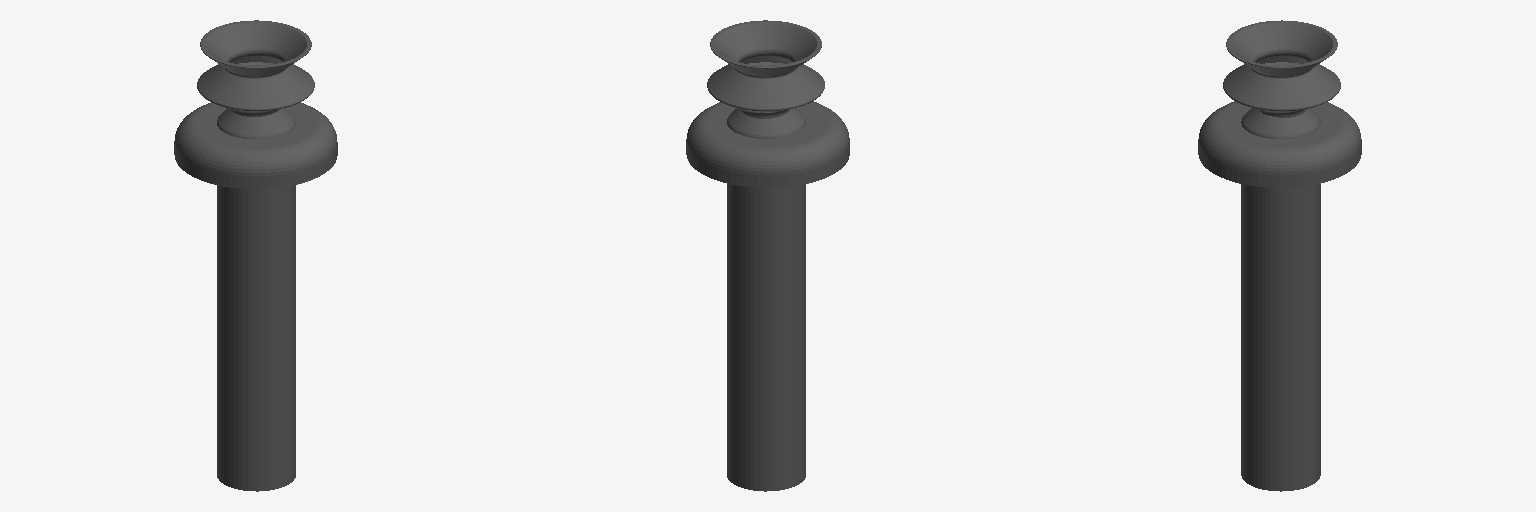
The robot description file, URDF, robot "iiwa14":
<?xml version="1.0" encoding="utf-8"?>
<!-- =================================================================================== -->
<!-- |    This document was autogenerated by xacro from iiwa14.urdf.xacro              | -->
<!-- |    EDITING THIS FILE BY HAND IS NOT RECOMMENDED                                 | -->
<!-- =================================================================================== -->
<robot name="iiwa14">
  <material name="Black">
    <color rgba="0.0 0.0 0.0 1.0"/>
  </material>
  <material name="Blue">
    <color rgba="0.0 0.0 0.8 1.0"/>
  </material>
  <material name="Green">
    <color rgba="0.0 0.8 0.0 1.0"/>
  </material>
  <material name="Grey">
    <color rgba="0.4 0.4 0.4 1.0"/>
  </material>
  <material name="Orange">
    <color rgba="1.0 0.423529411765 0.0392156862745 1.0"/>
  </material>
  <material name="Brown">
    <color rgba="0.870588235294 0.811764705882 0.764705882353 1.0"/>
  </material>
  <material name="Red">
    <color rgba="0.8 0.0 0.0 1.0"/>
  </material>
  <material name="White">
    <color rgba="1.0 1.0 1.0 1.0"/>
  </material>
  <!-- Fix to world just for testing -->
  <link name="world"/>
  <!--joint between {parent} and link_0-->
  <joint name="world_joint" type="fixed">
    <origin rpy="0 0 0" xyz="0 0 0.0"/>
    <parent link="world"/>
    <child link="link_0"/>
  </joint>
  <link name="link_0">
    <inertial>
      <origin rpy="0 0 0" xyz="-0.1 0 0.07"/>
      <mass value="5"/>
      <inertia ixx="0.05" ixy="0" ixz="0" iyy="0.06" iyz="0" izz="0.03"/>
    </inertial>
    <visual>
      <origin rpy="0 0 0" xyz="0 0 0"/>
      <geometry>
        <mesh filename="package://iiwa_description/meshes/iiwa14/visual/link_0.stl"/>
      </geometry>
      <material name="Grey"/>
    </visual>
    <collision>
      <origin rpy="0 0 0" xyz="0 0 0"/>
      <geometry>
        <mesh filename="package://iiwa_description/meshes/iiwa14/collision/link_0_s.stl"/>
      </geometry>
      <material name="Grey"/>
    </collision>
    <self_collision_checking>
      <origin rpy="0 0 0" xyz="0 0 0"/>
      <geometry>
        <capsule length="0.25" radius="0.15"/>
      </geometry>
    </self_collision_checking>
  </link>
  <!-- joint between link_0 and link_1 -->
  <joint name="joint_0" type="revolute">
    <parent link="link_0"/>
    <child link="link_1"/>
    <origin rpy="0 0 0" xyz="0 0 0.1575"/>
    <axis xyz="0 0 1"/>
    <limit effort="300" lower="-2.96705972839" upper="2.96705972839" velocity="10"/>
    <safety_controller k_position="100" k_velocity="2" soft_lower_limit="-2.93215314335" soft_upper_limit="2.93215314335"/>
    <dynamics damping="0.0" friction="0.0"/>
  </joint>
  <link name="link_1">
    <inertial>
      <origin rpy="0 0 0" xyz="0 -0.03 0.12"/>
      <mass value="4"/>
      <inertia ixx="0.1" ixy="0" ixz="0" iyy="0.09" iyz="0" izz="0.02"/>
    </inertial>
    <visual>
      <origin rpy="0 0 0" xyz="0 0 0"/>
      <geometry>
        <mesh filename="package://iiwa_description/meshes/iiwa14/visual/link_1.stl"/>
      </geometry>
      <material name="Orange"/>
    </visual>
    <collision>
      <origin rpy="0 0 0" xyz="0 0 0"/>
      <geometry>
        <mesh filename="package://iiwa_description/meshes/iiwa14/collision/link_1_s.stl"/>
      </geometry>
      <material name="Orange"/>
    </collision>
  </link>
  <!-- joint between link_1 and link_2 -->
  <joint name="joint_1" type="revolute">
    <parent link="link_1"/>
    <child link="link_2"/>
    <origin rpy="1.57079632679   0 3.14159265359" xyz="0 0 0.2025"/>
    <axis xyz="0 0 1"/>
    <limit effort="300" lower="-2.09439510239" upper="2.09439510239" velocity="10"/>
    <safety_controller k_position="100" k_velocity="2" soft_lower_limit="-2.05948851735" soft_upper_limit="2.05948851735"/>
    <dynamics damping="0.0" friction="0.0"/>
  </joint>
  <link name="link_2">
    <inertial>
      <origin rpy="0 0 0" xyz="0.0003 0.059 0.042"/>
      <mass value="4"/>
      <inertia ixx="0.05" ixy="0" ixz="0" iyy="0.018" iyz="0" izz="0.044"/>
    </inertial>
    <visual>
      <origin rpy="0 0 0" xyz="0 0 0"/>
      <geometry>
        <mesh filename="package://iiwa_description/meshes/iiwa14/visual/link_2.stl"/>
      </geometry>
      <material name="Orange"/>
    </visual>
    <collision>
      <origin rpy="0 0 0" xyz="0 0 0"/>
      <geometry>
        <mesh filename="package://iiwa_description/meshes/iiwa14/collision/link_2_s.stl"/>
      </geometry>
      <material name="Orange"/>
    </collision>
  </link>
  <!-- joint between link_2 and link_3 -->
  <joint name="joint_2" type="revolute">
    <parent link="link_2"/>
    <child link="link_3"/>
    <origin rpy="1.57079632679 0 3.14159265359" xyz="0 0.2045 0"/>
    <axis xyz="0 0 1"/>
    <limit effort="300" lower="-2.96705972839" upper="2.96705972839" velocity="10"/>
    <safety_controller k_position="100" k_velocity="2" soft_lower_limit="-2.93215314335" soft_upper_limit="2.93215314335"/>
    <dynamics damping="0.0" friction="0.0"/>
  </joint>
  <link name="link_3">
    <inertial>
      <origin rpy="0 0 0" xyz="0 0.03 0.13"/>
      <mass value="3"/>
      <inertia ixx="0.08" ixy="0" ixz="0" iyy="0.075" iyz="0" izz="0.01"/>
    </inertial>
    <visual>
      <origin rpy="0 0 0" xyz="0 0 0"/>
      <geometry>
        <mesh filename="package://iiwa_description/meshes/iiwa14/visual/link_3.stl"/>
      </geometry>
      <material name="Orange"/>
    </visual>
    <collision>
      <origin rpy="0 0 0" xyz="0 0 0"/>
      <geometry>
        <mesh filename="package://iiwa_description/meshes/iiwa14/collision/link_3_s.stl"/>
      </geometry>
      <material name="Orange"/>
    </collision>
  </link>
  <!-- joint between link_3 and link_4 -->
  <joint name="joint_3" type="revolute">
    <parent link="link_3"/>
    <child link="link_4"/>
    <origin rpy="1.57079632679 0 0" xyz="0 0 0.2155"/>
    <axis xyz="0 0 1"/>
    <limit effort="300" lower="-2.09439510239" upper="2.09439510239" velocity="10"/>
    <safety_controller k_position="100" k_velocity="2" soft_lower_limit="-2.05948851735" soft_upper_limit="2.05948851735"/>
    <dynamics damping="0.0" friction="0.0"/>
  </joint>
  <link name="link_4">
    <inertial>
      <origin rpy="0 0 0" xyz="0 0.067 0.034"/>
      <mass value="2.7"/>
      <inertia ixx="0.03" ixy="0" ixz="0" iyy="0.01" iyz="0" izz="0.029"/>
    </inertial>
    <visual>
      <origin rpy="0 0 0" xyz="0 0 0"/>
      <geometry>
        <mesh filename="package://iiwa_description/meshes/iiwa14/visual/link_4.stl"/>
      </geometry>
      <material name="Orange"/>
    </visual>
    <collision>
      <origin rpy="0 0 0" xyz="0 0 0"/>
      <geometry>
        <mesh filename="package://iiwa_description/meshes/iiwa14/collision/link_4_s.stl"/>
      </geometry>
      <material name="Orange"/>
    </collision>
  </link>
  <!-- joint between link_4 and link_5 -->
  <joint name="joint_4" type="revolute">
    <parent link="link_4"/>
    <child link="link_5"/>
    <origin rpy="-1.57079632679 3.14159265359 0" xyz="0 0.1845 0"/>
    <axis xyz="0 0 1"/>
    <limit effort="300" lower="-2.96705972839" upper="2.96705972839" velocity="10"/>
    <safety_controller k_position="100" k_velocity="2" soft_lower_limit="-2.93215314335" soft_upper_limit="2.93215314335"/>
    <dynamics damping="0.0" friction="0.0"/>
  </joint>
  <link name="link_5">
    <inertial>
      <origin rpy="0 0 0" xyz="0.0001 0.021 0.076"/>
      <mass value="1.7"/>
      <inertia ixx="0.02" ixy="0" ixz="0" iyy="0.018" iyz="0" izz="0.005"/>
    </inertial>
    <visual>
      <origin rpy="0 0 0" xyz="0 0 0"/>
      <geometry>
        <mesh filename="package://iiwa_description/meshes/iiwa14/visual/link_5.stl"/>
      </geometry>
      <material name="Orange"/>
    </visual>
    <collision>
      <origin rpy="0 0 0" xyz="0 0 0"/>
      <geometry>
        <mesh filename="package://iiwa_description/meshes/iiwa14/collision/link_5_s.stl"/>
      </geometry>
      <material name="Orange"/>
    </collision>
  </link>
  <!-- joint between link_5 and link_6 -->
  <joint name="joint_5" type="revolute">
    <parent link="link_5"/>
    <child link="link_6"/>
    <origin rpy="1.57079632679 0 0" xyz="0 0 0.2155"/>
    <axis xyz="0 0 1"/>
    <limit effort="300" lower="-2.09439510239" upper="2.09439510239" velocity="10"/>
    <safety_controller k_position="100" k_velocity="2" soft_lower_limit="-2.05948851735" soft_upper_limit="2.05948851735"/>
    <dynamics damping="0.0" friction="0.0"/>
  </joint>
  <link name="link_6">
    <inertial>
      <origin rpy="0 0 0" xyz="0 0.0006 0.0004"/>
      <mass value="1.8"/>
      <inertia ixx="0.025" ixy="0" ixz="0" iyy="0.0136" iyz="0" izz="0.0247"/>
    </inertial>
    <visual>
      <origin rpy="0 0 0" xyz="0 0 0"/>
      <geometry>
        <mesh filename="package://iiwa_description/meshes/iiwa14/visual/link_6.stl"/>
      </geometry>
      <material name="Orange"/>
    </visual>
    <collision>
      <origin rpy="0 0 0" xyz="0 0 0"/>
      <geometry>
        <mesh filename="package://iiwa_description/meshes/iiwa14/collision/link_6_s.stl"/>
      </geometry>
      <material name="Orange"/>
    </collision>
  </link>
  <!-- joint between link_6 and link_7 -->
  <joint name="joint_6" type="prismatic">
    <parent link="link_6"/>
    <child link="link_7"/>
    <origin rpy="-1.57079632679 3.14159265359 0" xyz="0 0.081 0"/>
    <axis xyz="0 0 1"/>
    <limit effort="300" lower="0" upper="0.06" velocity="0.01"/>
    <safety_controller k_position="1" k_velocity="0.01" soft_lower_limit="0" soft_upper_limit="0.06"/>
    <dynamics damping="0.0" friction="0.0"/>
  </joint>
  <link name="link_7">
    <inertial>
      <origin rpy="0 0 0" xyz="0 0 0.02"/>
      <mass value="0.428571428571"/>
      <!--this is for the MFT Pneumatisch flange-->
      <inertia ixx="0.01" ixy="0" ixz="0" iyy="0.01" iyz="0" izz="0.01"/>
    </inertial>
    <visual>
      <origin rpy="0 0 0" xyz="0 0 0"/>
      <geometry>
        <!--           <mesh filename="package://iiwa_description/meshes/iiwa14/visual/link_7.stl"/> -->
        <mesh filename="package://iiwa_description/meshes/iiwa14/visual/link_7-MF-Touch-pneumatisch.stl" scale="0.01 0.01 0.01" />
      </geometry>
      <material name="Grey"/>
    </visual>
    <collision>
      <origin rpy="0 0 0" xyz="0 0 0"/>
      <geometry>
        <!--           <mesh filename="package://iiwa_description/meshes/iiwa14/collision/link_7_s.stl"/> -->
        <mesh filename="package://iiwa_description/meshes/iiwa14/collision/link_7-MF-Touch-pneumatisch_s.stl" scale="0.01 0.01 0.01"/>
      </geometry>
      <material name="Grey"/>
    </collision>
  </link>
  <joint name="joint_ee" type="fixed">
    <parent link="link_7"/>
    <child link="link_ee"/>
    <origin rpy="0 -1.57079632679 0" xyz="0 0 0.045"/>
  </joint>
  <link name="link_ee">
    </link>
  <joint name="joint_ee_kuka" type="fixed">
    <parent link="link_7"/>
    <child link="link_ee_kuka"/>
    <origin rpy="3.14159265359 3.14159265359 3.14159265359" xyz="0 0 0.045"/>
    <axis xyz="0 0 1"/>
  </joint>
  <joint name="joint_ee_kuka_mft_pneum" type="fixed">
    <parent link="link_7"/>
    <child link="link_ee_kuka_mft_pneum"/>
    <origin rpy="0 -1.57079632679 0" xyz="0 0 0.071"/>
  </joint>
  <link name="link_ee_kuka">
    </link>
  <link name="link_ee_kuka_mft_pneum">
    </link>
  <!-- Load Gazebo lib and set the robot namespace -->
  <!-- <gazebo>
      <plugin name="gazebo_ros_control" filename="libgazebo_ros_control.so">
        <robotNamespace>/${robot_name}</robotNamespace>
      </plugin>
    </gazebo> -->
  <!-- Link0 -->
  <gazebo reference="iiwa_link_0">
    <material>Gazebo/Grey</material>
    <mu1>0.2</mu1>
    <mu2>0.2</mu2>
  </gazebo>
  <!-- Link1 -->
  <gazebo reference="iiwa_link_1">
    <material>Gazebo/Orange</material>
    <mu1>0.2</mu1>
    <mu2>0.2</mu2>
  </gazebo>
  <!-- Link2 -->
  <gazebo reference="iiwa_link_2">
    <material>Gazebo/Orange</material>
    <mu1>0.2</mu1>
    <mu2>0.2</mu2>
  </gazebo>
  <!-- Link3 -->
  <gazebo reference="iiwa_link_3">
    <material>Gazebo/Orange</material>
    <mu1>0.2</mu1>
    <mu2>0.2</mu2>
  </gazebo>
  <!-- Link4 -->
  <gazebo reference="iiwa_link_4">
    <material>Gazebo/Orange</material>
    <mu1>0.2</mu1>
    <mu2>0.2</mu2>
  </gazebo>
  <!-- Link5 -->
  <gazebo reference="iiwa_link_5">
    <material>Gazebo/Orange</material>
    <mu1>0.2</mu1>
    <mu2>0.2</mu2>
  </gazebo>
  <!-- Link6 -->
  <gazebo reference="iiwa_link_6">
    <material>Gazebo/Orange</material>
    <mu1>0.2</mu1>
    <mu2>0.2</mu2>
  </gazebo>
  <!-- Link7 -->
  <gazebo reference="iiwa_link_7">
    <material>Gazebo/Grey</material>
    <mu1>0.2</mu1>
    <mu2>0.2</mu2>
  </gazebo>
  <transmission name="iiwa_tran_1">
    <robotNamespace>/iiwa</robotNamespace>
    <type>transmission_interface/SimpleTransmission</type>
    <joint name="iiwa_joint_1">
      <hardwareInterface>PositionJointInterface</hardwareInterface>
    </joint>
    <actuator name="iiwa_motor_1">
      <hardwareInterface>PositionJointInterface</hardwareInterface>
      <mechanicalReduction>1</mechanicalReduction>
    </actuator>
  </transmission>
  <transmission name="iiwa_tran_2">
    <robotNamespace>/iiwa</robotNamespace>
    <type>transmission_interface/SimpleTransmission</type>
    <joint name="iiwa_joint_2">
      <hardwareInterface>PositionJointInterface</hardwareInterface>
    </joint>
    <actuator name="iiwa_motor_2">
      <hardwareInterface>PositionJointInterface</hardwareInterface>
      <mechanicalReduction>1</mechanicalReduction>
    </actuator>
  </transmission>
  <transmission name="iiwa_tran_3">
    <robotNamespace>/iiwa</robotNamespace>
    <type>transmission_interface/SimpleTransmission</type>
    <joint name="iiwa_joint_3">
      <hardwareInterface>PositionJointInterface</hardwareInterface>
    </joint>
    <actuator name="iiwa_motor_3">
      <hardwareInterface>PositionJointInterface</hardwareInterface>
      <mechanicalReduction>1</mechanicalReduction>
    </actuator>
  </transmission>
  <transmission name="iiwa_tran_4">
    <robotNamespace>/iiwa</robotNamespace>
    <type>transmission_interface/SimpleTransmission</type>
    <joint name="iiwa_joint_4">
      <hardwareInterface>PositionJointInterface</hardwareInterface>
    </joint>
    <actuator name="iiwa_motor_4">
      <hardwareInterface>PositionJointInterface</hardwareInterface>
      <mechanicalReduction>1</mechanicalReduction>
    </actuator>
  </transmission>
  <transmission name="iiwa_tran_5">
    <robotNamespace>/iiwa</robotNamespace>
    <type>transmission_interface/SimpleTransmission</type>
    <joint name="iiwa_joint_5">
      <hardwareInterface>PositionJointInterface</hardwareInterface>
    </joint>
    <actuator name="iiwa_motor_5">
      <hardwareInterface>PositionJointInterface</hardwareInterface>
      <mechanicalReduction>1</mechanicalReduction>
    </actuator>
  </transmission>
  <transmission name="iiwa_tran_6">
    <robotNamespace>/iiwa</robotNamespace>
    <type>transmission_interface/SimpleTransmission</type>
    <joint name="iiwa_joint_6">
      <hardwareInterface>PositionJointInterface</hardwareInterface>
    </joint>
    <actuator name="iiwa_motor_6">
      <hardwareInterface>PositionJointInterface</hardwareInterface>
      <mechanicalReduction>1</mechanicalReduction>
    </actuator>
  </transmission>
  <transmission name="iiwa_tran_7">
    <robotNamespace>/iiwa</robotNamespace>
    <type>transmission_interface/SimpleTransmission</type>
    <joint name="iiwa_joint_7">
      <hardwareInterface>PositionJointInterface</hardwareInterface>
    </joint>
    <actuator name="iiwa_motor_7">
      <hardwareInterface>PositionJointInterface</hardwareInterface>
      <mechanicalReduction>1</mechanicalReduction>
    </actuator>
  </transmission>
</robot>

--- Facts derived from the render (not from the file) ---
3 views of the same robot in one strip: view 1: azimuth 30°, elevation 25°; view 2: azimuth 150°, elevation 25°; view 3: azimuth 270°, elevation 25° (orthographic).
Model iiwa14 with 12 links and 11 joints (6 revolute, 1 prismatic, 4 fixed), rooted at world, posed all joints at 0.
Visible links, largest first — view 1: link_7; view 2: link_7; view 3: link_7.
Boxes of the visible links, bbox=[...] form: link_7: bbox=[174, 20, 337, 491]; link_7: bbox=[686, 20, 849, 491]; link_7: bbox=[1198, 20, 1361, 491].
Size in the robot's own frame: 0.0514 by 0.0514 by 0.1498 metres.
Meshes: 8 distinct files referenced, 1 mesh visuals loaded (1 binary STL); not drawn: 7 (reference not matched to a file when rendering).